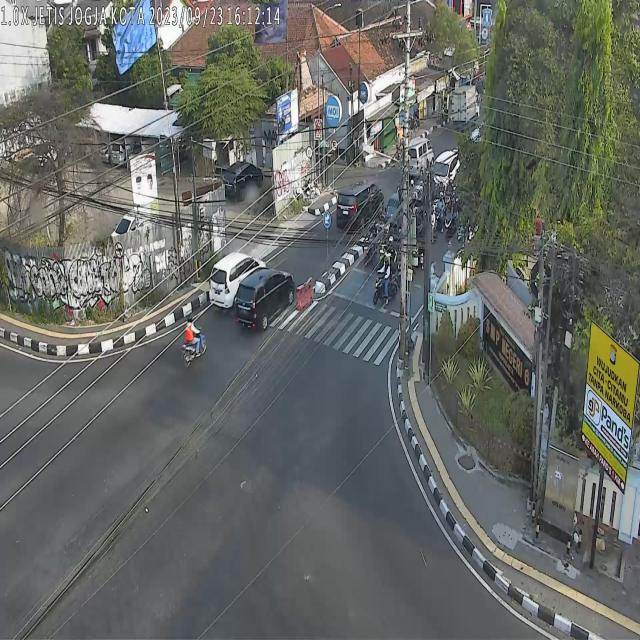car: (236, 266, 294, 332), (210, 251, 266, 312), (336, 181, 385, 234), (432, 149, 461, 192), (408, 138, 434, 178)
motorcycle: (181, 313, 208, 368), (373, 257, 397, 310), (364, 221, 376, 267), (445, 196, 458, 236), (378, 226, 389, 266), (435, 191, 445, 234)
